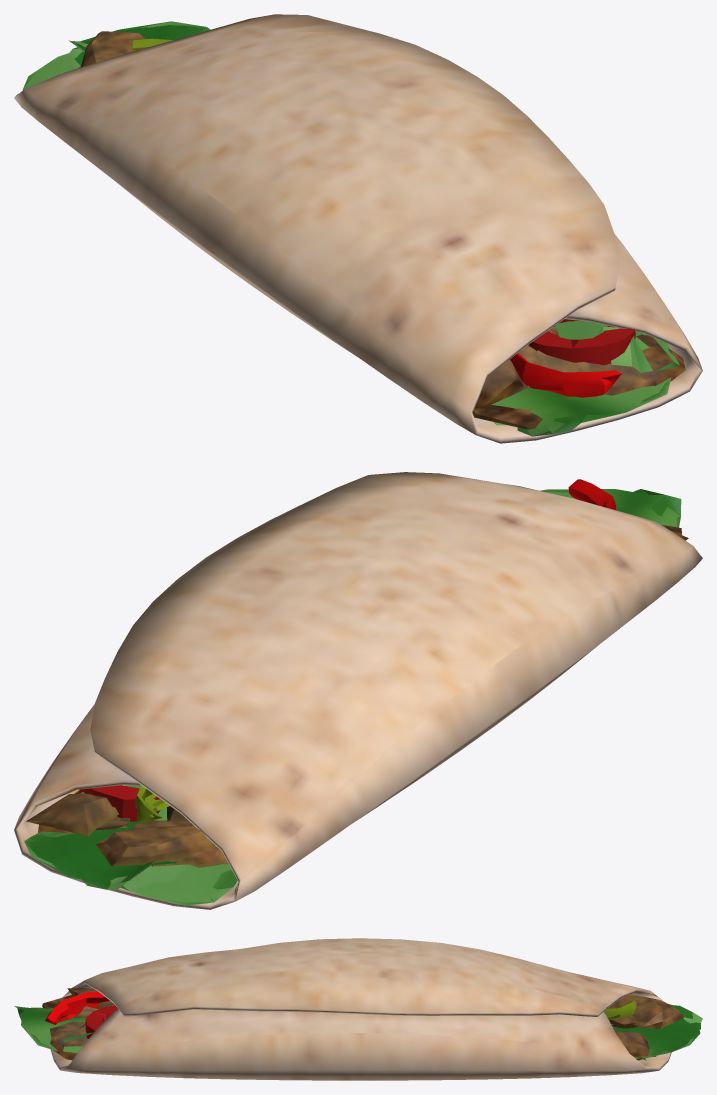
The model's file is tp_kebab_wrap.glb.
3 views of the same model, one above another, from view 1: azimuth 30°, elevation 25°; view 2: azimuth 150°, elevation 25°; view 3: azimuth 270°, elevation 25° (orthographic). The views are drawn at different scales.
Parts seen in each view (by area): view 1: kebab; view 2: kebab; view 3: kebab.
Part boxes in pixels (x1=…): kebab: x1=14, y1=14, x2=702, y2=443; kebab: x1=14, y1=472, x2=702, y2=909; kebab: x1=14, y1=938, x2=702, y2=1080.
Size of the model in its own units: 6.3 by 2.46 by 17.18.
1 material, 1 textured.
